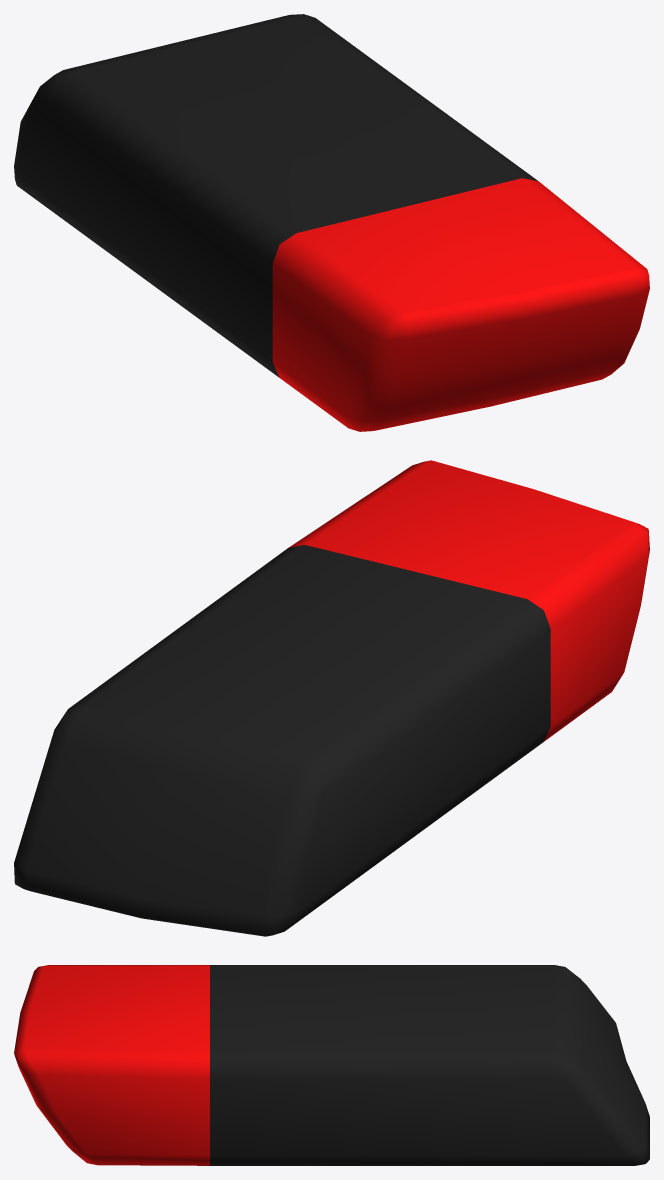
Rendered from rubber.FBX.
3 renders of one model, top to bottom at view 1: azimuth 30°, elevation 25°; view 2: azimuth 150°, elevation 25°; view 3: azimuth 270°, elevation 25°, orthographic. The views are drawn at different scales.
Parts seen in each view (by area): view 1: rubber; view 2: rubber; view 3: rubber.
Part boxes in pixels (bbox=[...]): rubber: bbox=[14, 14, 649, 431]; rubber: bbox=[14, 460, 649, 936]; rubber: bbox=[14, 965, 649, 1165].
Size of the model in its own units: 274 by 142 by 715.
